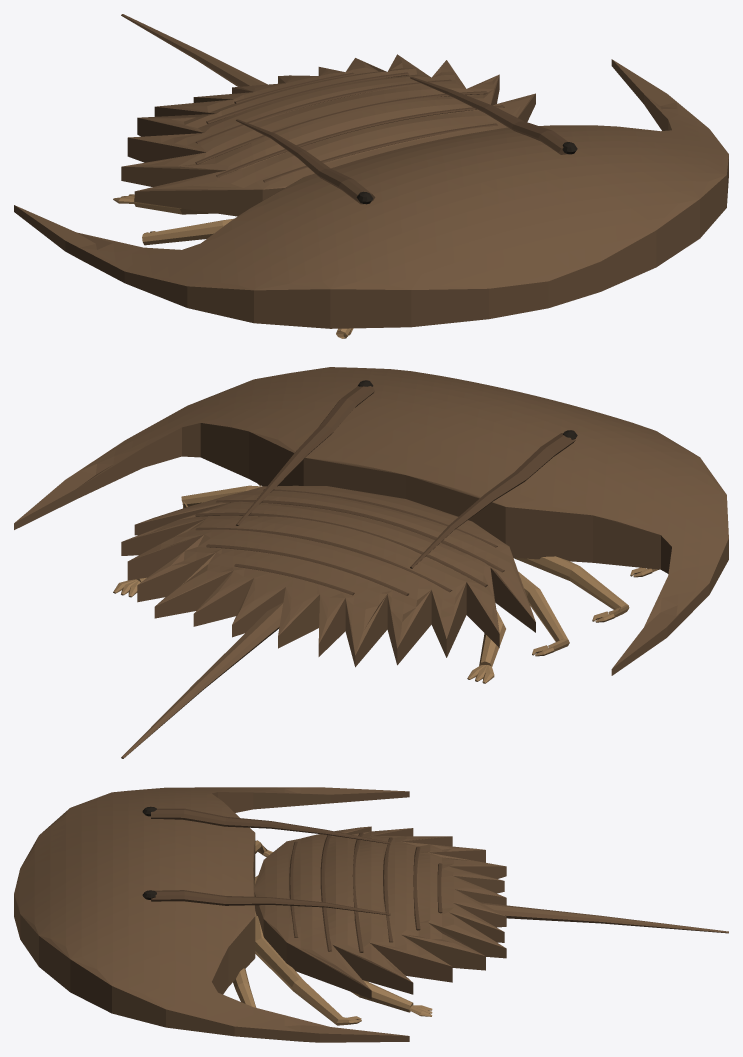
3 views of the same model, one above another, from view 1: azimuth 30°, elevation 25°; view 2: azimuth 150°, elevation 25°; view 3: azimuth 270°, elevation 25° (orthographic). The views are drawn at different scales.
Visible parts, largest first — view 1: 01_prosoma_with_genal_spines, 02_fused_thoracetron_with_radial_epimera, 03_ophthalmic_ridges_and_spines, 06_six_pairs_prosomal_appendages, 05_straight_styliform_telson; view 2: 01_prosoma_with_genal_spines, 02_fused_thoracetron_with_radial_epimera, 03_ophthalmic_ridges_and_spines, 06_six_pairs_prosomal_appendages, 05_straight_styliform_telson; view 3: 01_prosoma_with_genal_spines, 02_fused_thoracetron_with_radial_epimera, 03_ophthalmic_ridges_and_spines, 06_six_pairs_prosomal_appendages, 05_straight_styliform_telson.
Boxes of the visible parts, box(x1,y1,x2,y2) form: 01_prosoma_with_genal_spines: box(14, 59, 728, 328); 02_fused_thoracetron_with_radial_epimera: box(121, 54, 535, 216); 03_ophthalmic_ridges_and_spines: box(195, 72, 567, 204); 06_six_pairs_prosomal_appendages: box(113, 194, 353, 338); 05_straight_styliform_telson: box(121, 14, 267, 86); 01_prosoma_with_genal_spines: box(14, 367, 728, 675); 02_fused_thoracetron_with_radial_epimera: box(121, 485, 535, 667); 03_ophthalmic_ridges_and_spines: box(195, 386, 575, 595); 06_six_pairs_prosomal_appendages: box(113, 484, 658, 683); 05_straight_styliform_telson: box(121, 602, 283, 758); 01_prosoma_with_genal_spines: box(14, 787, 409, 1042); 02_fused_thoracetron_with_radial_epimera: box(254, 826, 506, 999); 03_ophthalmic_ridges_and_spines: box(151, 808, 442, 952); 06_six_pairs_prosomal_appendages: box(233, 840, 432, 1025); 05_straight_styliform_telson: box(480, 902, 728, 933).
Size of the model in its own units: 0.0168 by 0.00296 by 0.0206.
